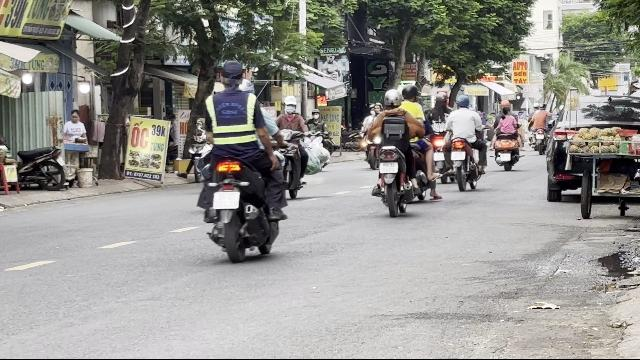helmet: (382, 88, 402, 108), (283, 96, 299, 114)
licenseplate: (214, 192, 238, 209), (379, 162, 398, 174)
motorcyclist: (193, 57, 289, 262), (365, 85, 437, 215), (271, 94, 311, 200)
nohelmet: (220, 60, 244, 88)
